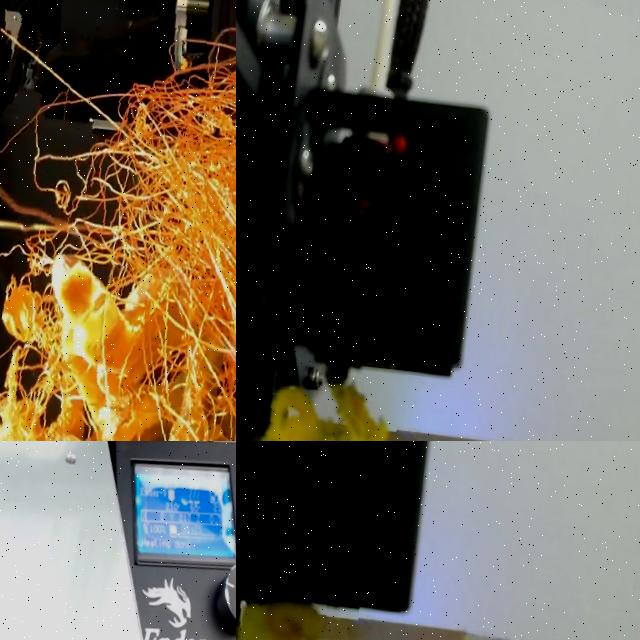spaghetti: (0, 0, 236, 441), (244, 371, 400, 441), (236, 585, 359, 640)
